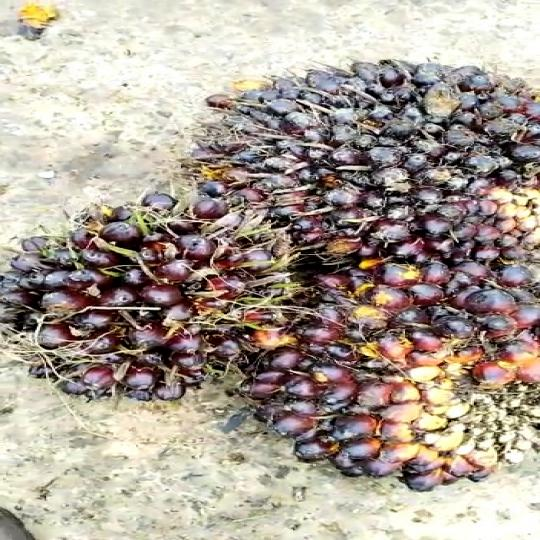kurang masak: (185, 66, 540, 294), (217, 282, 540, 503), (0, 176, 287, 416)
